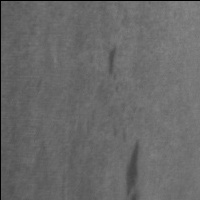inclusion: (123, 138, 146, 200), (101, 42, 122, 82)
